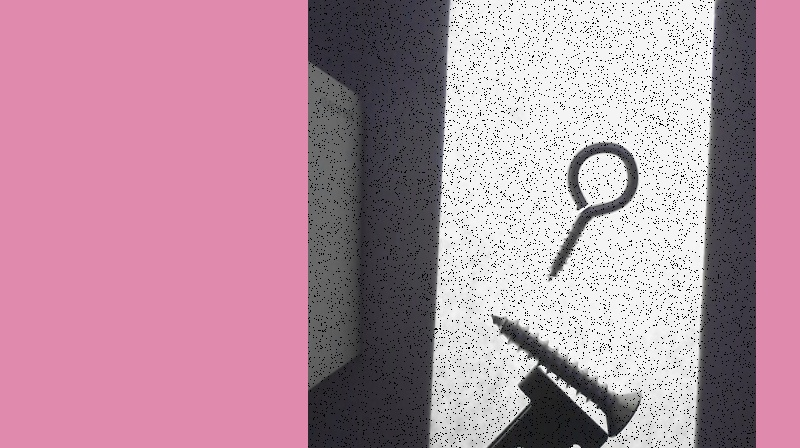O001: (544, 141, 640, 283)
O002: (421, 363, 611, 447)
S001: (488, 313, 644, 441)
